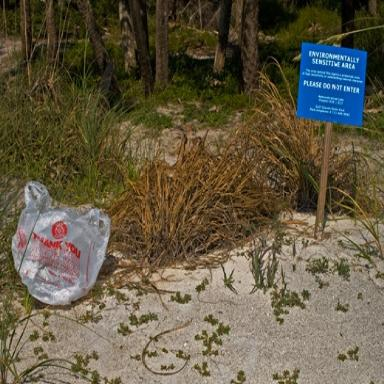plasticbag: (9, 176, 114, 307)
